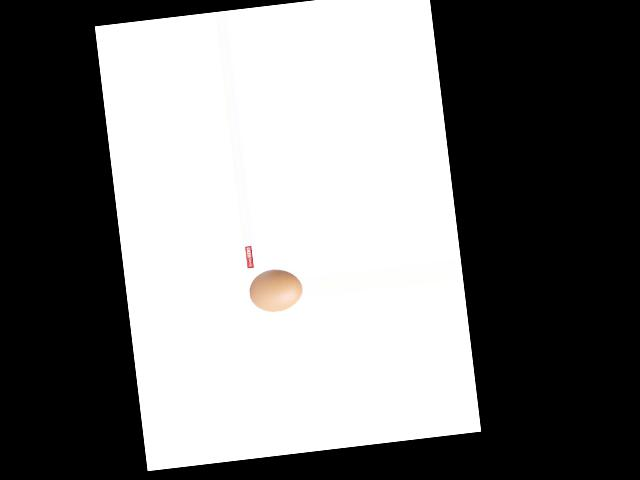egg: (247, 267, 303, 314)
